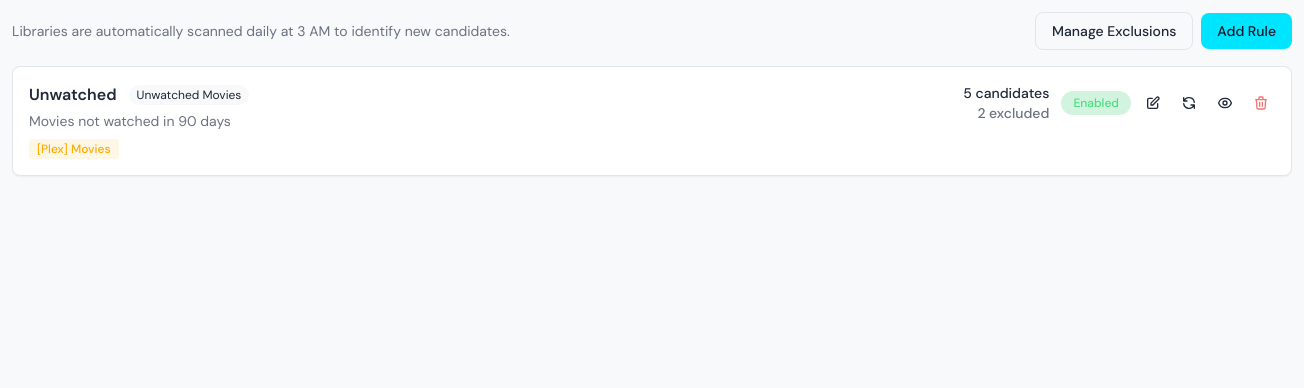
MaintenanceRulesTab clickable titles › CandidatesView › renders candidate title as a clickable button
Click the button "5 candidates" at {"x": 1006, "y": 93}, box [963,83,1049,103]
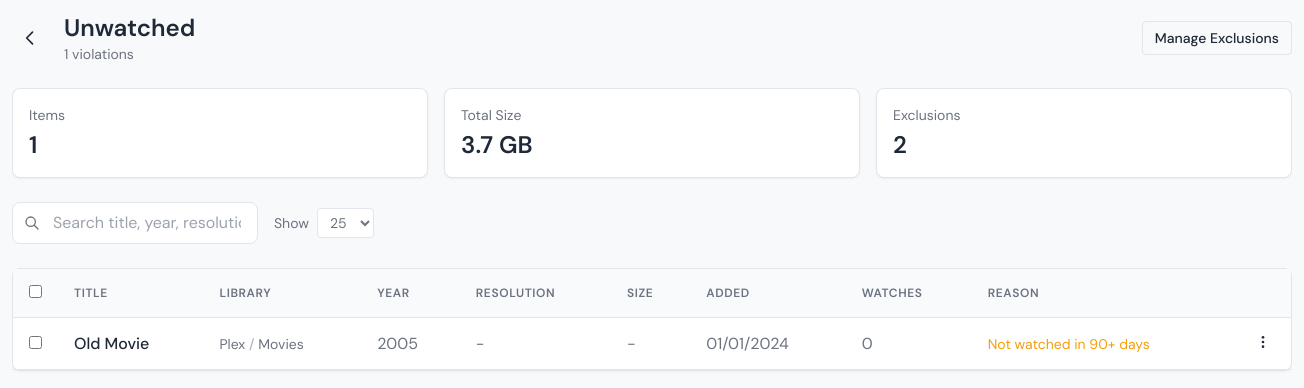
Expected: the button with aria-label "View details for Old Movie" is shown, [74,332,149,356]
